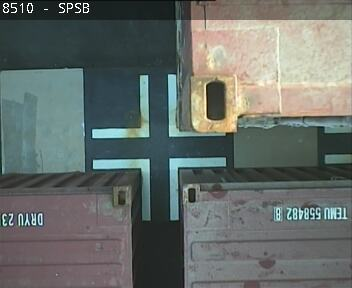groundmarker_1: (93, 156, 226, 221), (91, 74, 224, 139)
